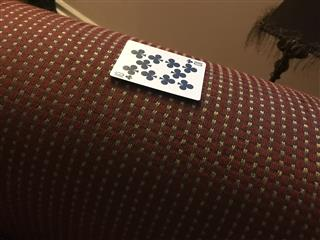TenOfClubs: (108, 38, 207, 101)
